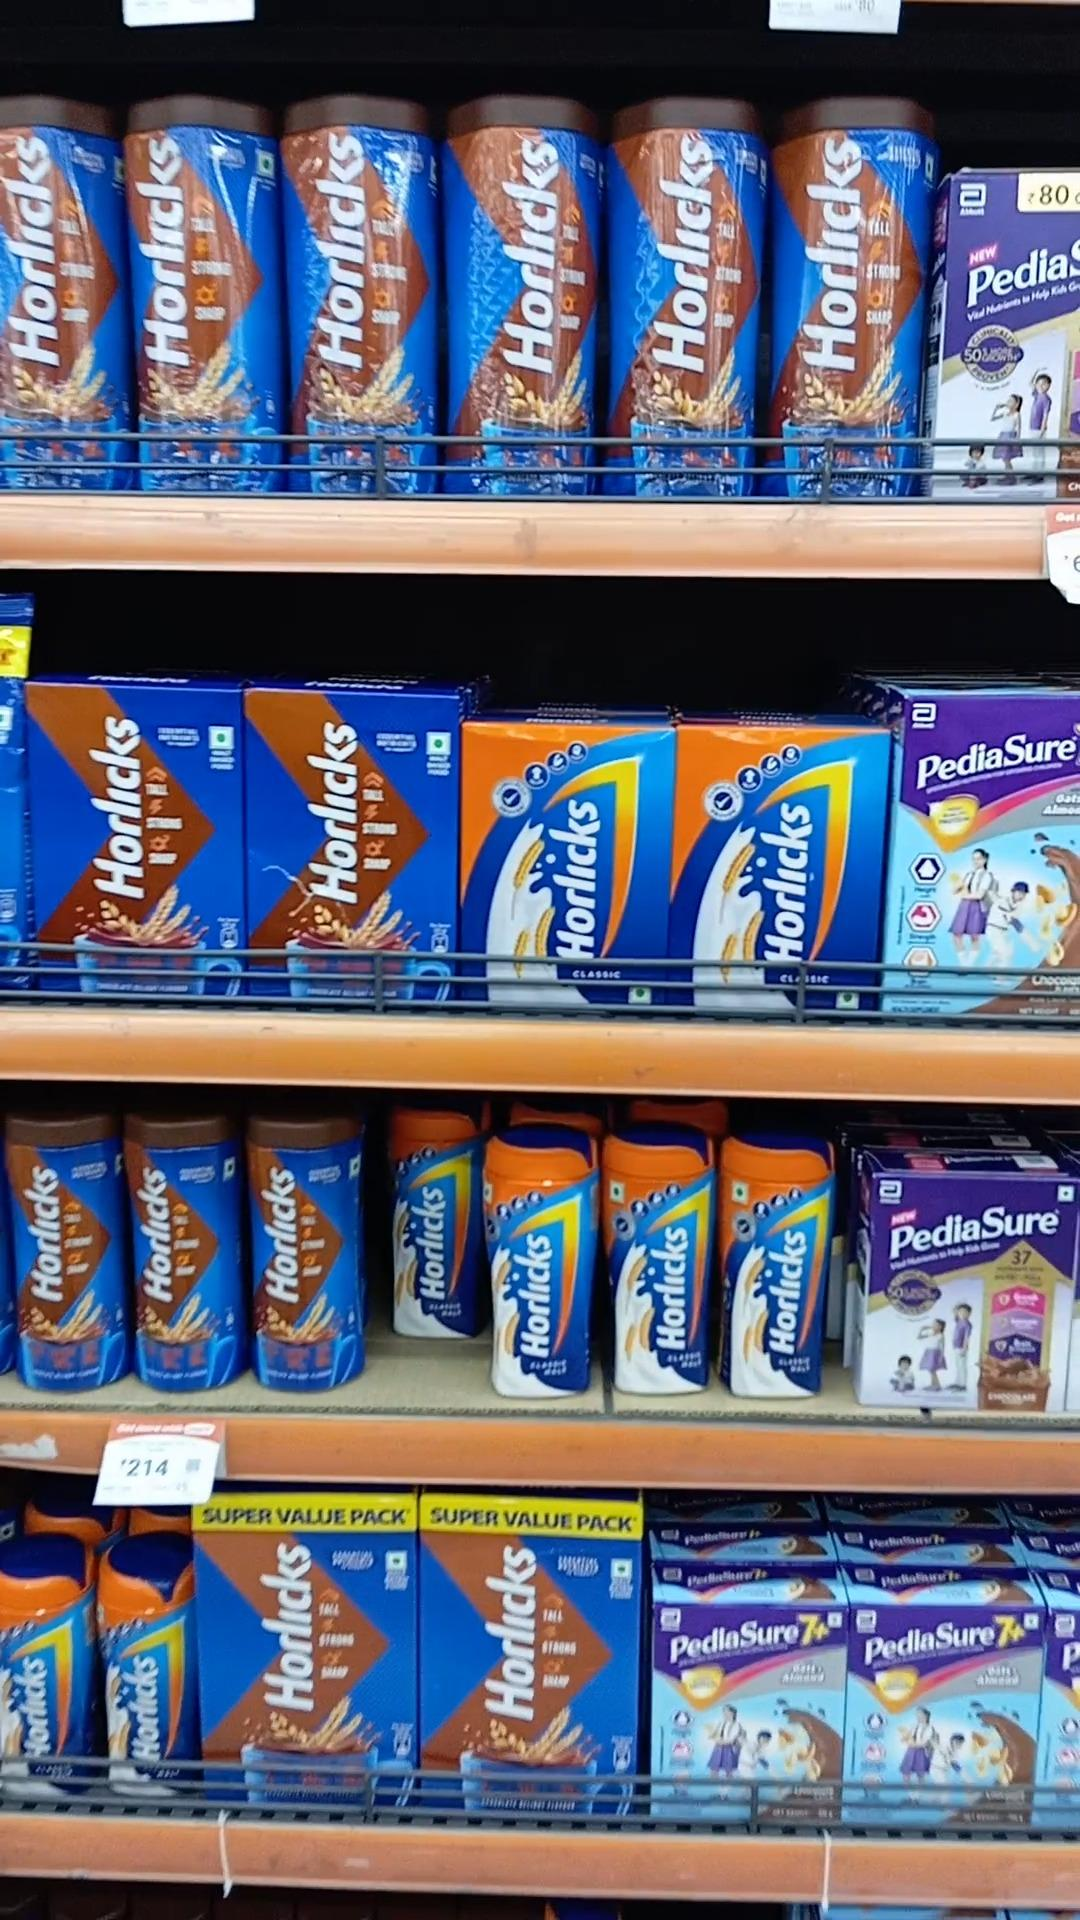HORLICK_CHOCOLATE_1_KG_JAR: (770, 100, 934, 495), (605, 96, 761, 497), (440, 98, 595, 493), (132, 88, 277, 493), (287, 95, 429, 491), (1, 90, 124, 488)
HORLICK_CHOCOLATE_1_KG_PACK: (417, 1501, 637, 1813), (206, 1497, 409, 1812)
HORLICK_CHOCOLATE_500_G_JAR: (125, 1114, 243, 1387), (251, 1112, 364, 1390), (5, 1114, 117, 1393)
HORLICK_CHOCOLATE_500_G_PACK: (30, 682, 240, 1000), (248, 691, 452, 1002)
HORLICK_CLASSIC_MALT_500_G_JAR: (487, 1126, 593, 1399), (607, 1134, 713, 1395), (723, 1135, 822, 1396), (99, 1542, 196, 1799), (0, 1535, 92, 1796), (388, 1104, 476, 1348)
HORLICK_CLASSIC_MALT_500_G_PACK: (463, 727, 670, 1007), (676, 729, 877, 1014)
PEDIASURE_7_PLUS_CHOCOLATE_400_G_PACK: (653, 1610, 843, 1825), (851, 1607, 1029, 1828)
PEDIASURE_CHOCOLATE_500_G_PACK: (872, 1170, 1063, 1411)
